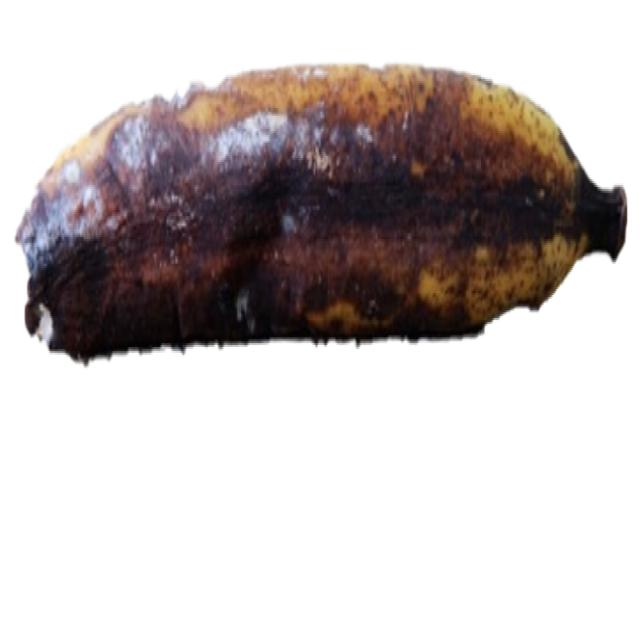rotten-banana: (14, 58, 628, 362)
